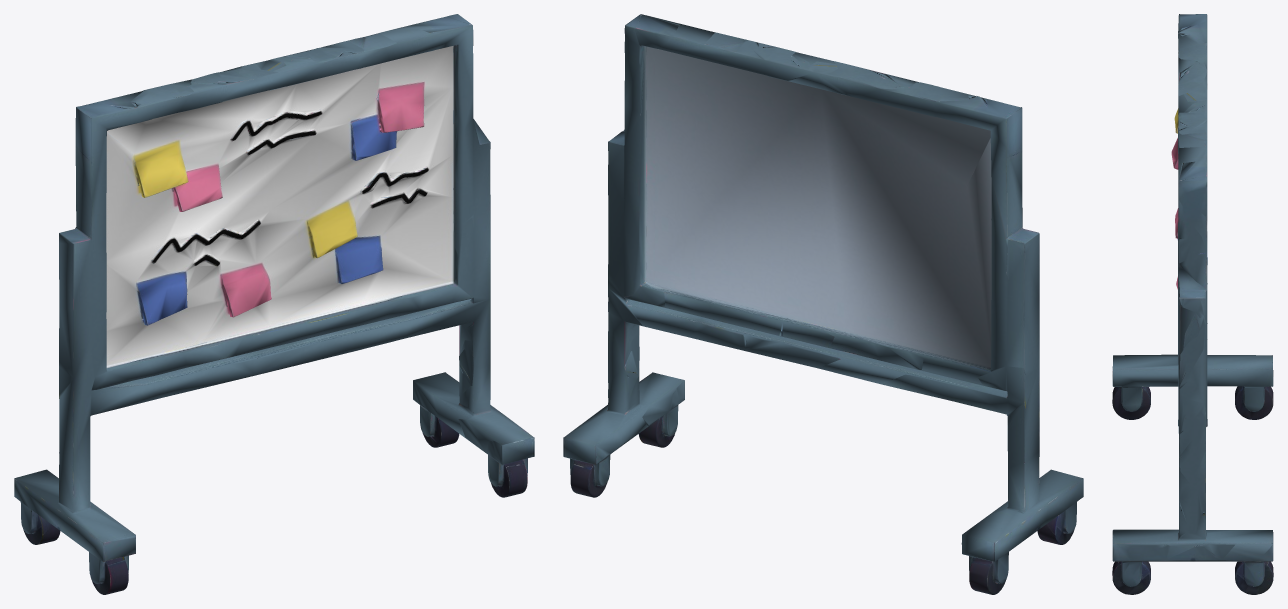
The model's file is whiteboard.glb.
3 renders of one model, left to right at view 1: azimuth 30°, elevation 25°; view 2: azimuth 150°, elevation 25°; view 3: azimuth 270°, elevation 25°, orthographic. The views are drawn at different scales.
Visible parts, largest first — view 1: Mesh_0; view 2: Mesh_0; view 3: Mesh_0.
Part boxes in pixels (box(x1,y1,x2,y2)): Mesh_0: box(14, 14, 534, 594); Mesh_0: box(563, 14, 1083, 594); Mesh_0: box(1112, 14, 1273, 594).
Bounding box in the file's own units: 1.91 × 1.91 × 0.6868.
1 material, 1 textured.
